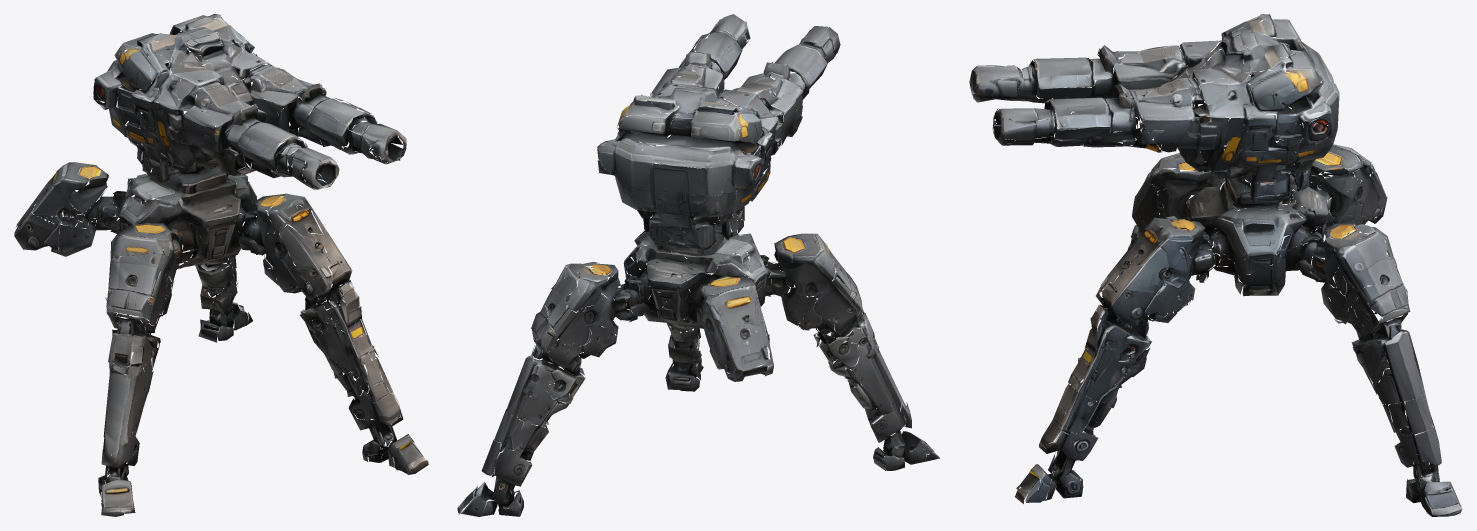
The model's file is GM_QuadCannon_Walker_LOD2.glb.
3 views of the same model, side by side, from view 1: azimuth 30°, elevation 25°; view 2: azimuth 150°, elevation 25°; view 3: azimuth 270°, elevation 25° (orthographic). The views are drawn at different scales.
Visible parts, largest first — view 1: GM_QuadCannon_Walker_LOD2_tmp; view 2: GM_QuadCannon_Walker_LOD2_tmp; view 3: GM_QuadCannon_Walker_LOD2_tmp.
Part boxes in pixels (<box>): GM_QuadCannon_Walker_LOD2_tmp: <box>14,14,428,516</box>; GM_QuadCannon_Walker_LOD2_tmp: <box>457,14,939,516</box>; GM_QuadCannon_Walker_LOD2_tmp: <box>969,14,1462,516</box>.
Bounding box in the file's own units: 0.7594 × 0.8955 × 0.9789.
1 material, 1 textured.
